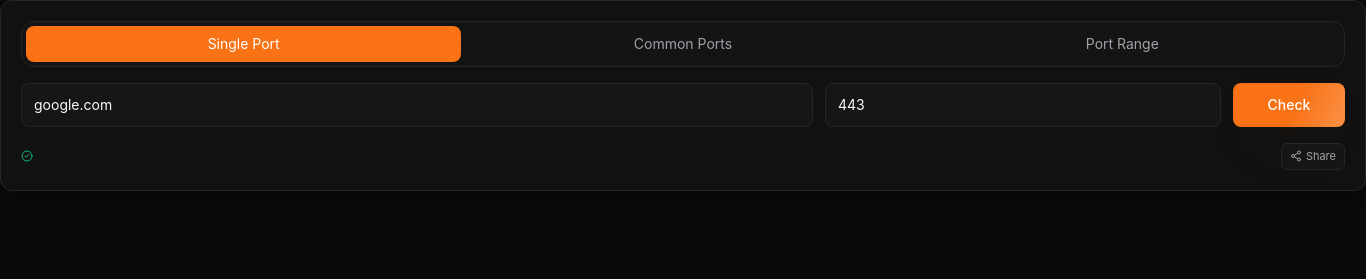
Test: target-guard integration — DNS/Port/SSL forms › Port checker blocks the AWS IMDS metadata IP with the metadata message
Replace the text in the field named "enter hostname" with "169.254.169.254": (417, 105) [21,83,813,127]
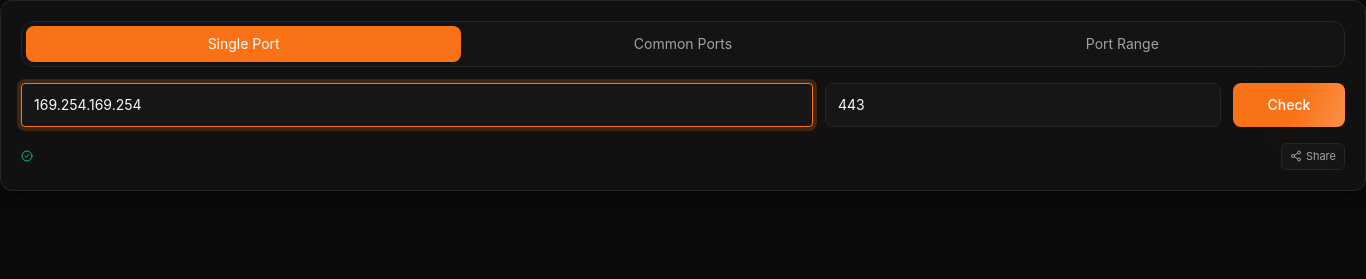
Click the button "Check": (1289, 105) [1233,83,1345,127]
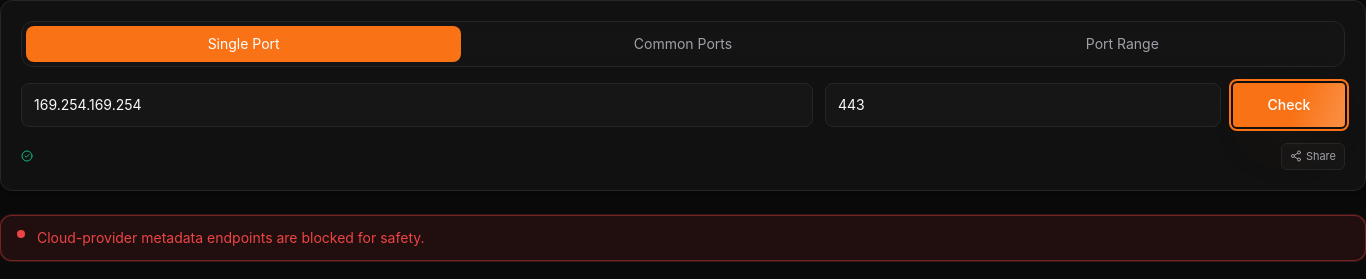
Now the message "Cloud-provider metadata endpoints are blocked for safety." is shown, box [0,214,1365,260]
